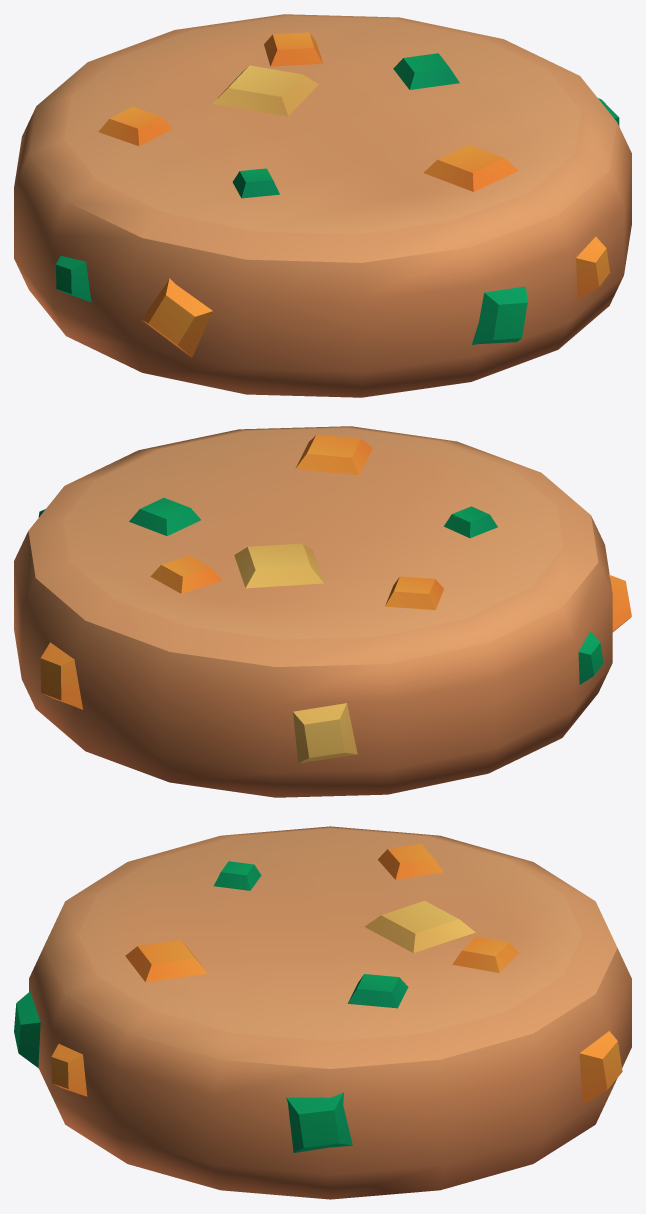
File: kay-food_ingredient_vegetableburger_uncooked.glb
3 views of the same model, one above another, from view 1: azimuth 30°, elevation 25°; view 2: azimuth 150°, elevation 25°; view 3: azimuth 270°, elevation 25° (orthographic). The views are drawn at different scales.
Visible parts, largest first — view 1: food_ingredient_vegetableburger_uncooked; view 2: food_ingredient_vegetableburger_uncooked; view 3: food_ingredient_vegetableburger_uncooked.
Part boxes in pixels (bbox=[...]): food_ingredient_vegetableburger_uncooked: bbox=[14, 14, 631, 397]; food_ingredient_vegetableburger_uncooked: bbox=[14, 426, 631, 797]; food_ingredient_vegetableburger_uncooked: bbox=[14, 826, 631, 1199].
Bounding box in the file's own units: 0.22 × 0.0653 × 0.2168.
1 material, 1 textured.
